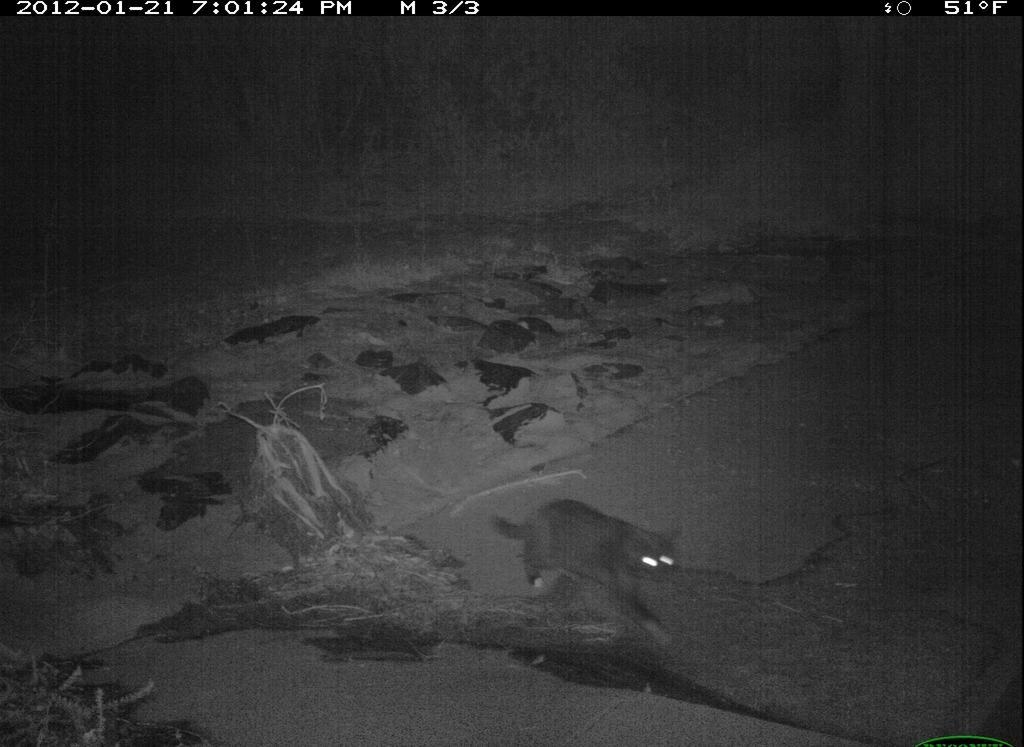cat: (488, 495, 693, 647)
